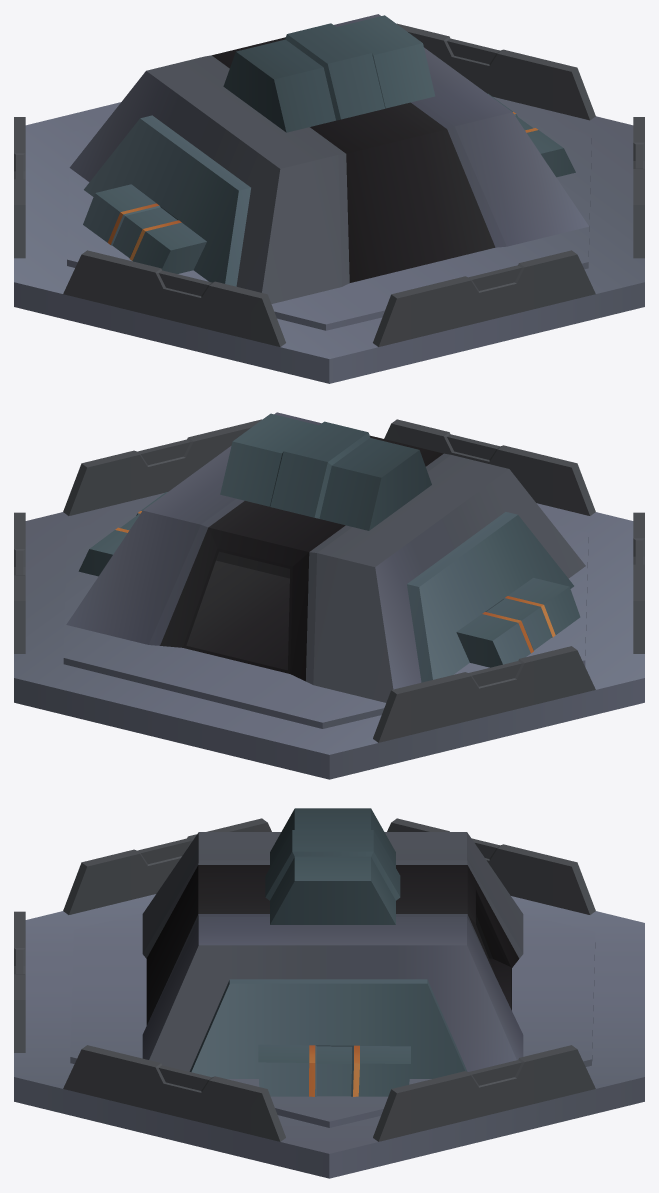
The model's file is Base_Structure_6X.fbx.
The picture shows the model from 3 angles, top to bottom: view 1: azimuth 30°, elevation 25°; view 2: azimuth 150°, elevation 25°; view 3: azimuth 270°, elevation 25°; orthographic projection.
Parts seen in each view (by area): view 1: Base_1Level; view 2: Base_1Level; view 3: Base_1Level.
Boxes of the visible parts, x1=… form: Base_1Level: x1=14, y1=14, x2=644, y2=383; Base_1Level: x1=14, y1=412, x2=644, y2=779; Base_1Level: x1=14, y1=808, x2=644, y2=1178.
Bounding box in the file's own units: 359 × 100 × 311.
